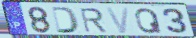3: (161, 8, 189, 35)
8: (27, 6, 53, 34)
D: (50, 6, 81, 35)
Q: (134, 7, 164, 35)
R: (78, 7, 109, 34)
V: (104, 7, 131, 35)
